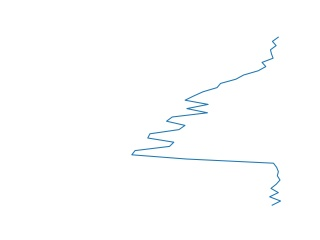proximalDeepseaFan: (126, 34, 290, 210)
